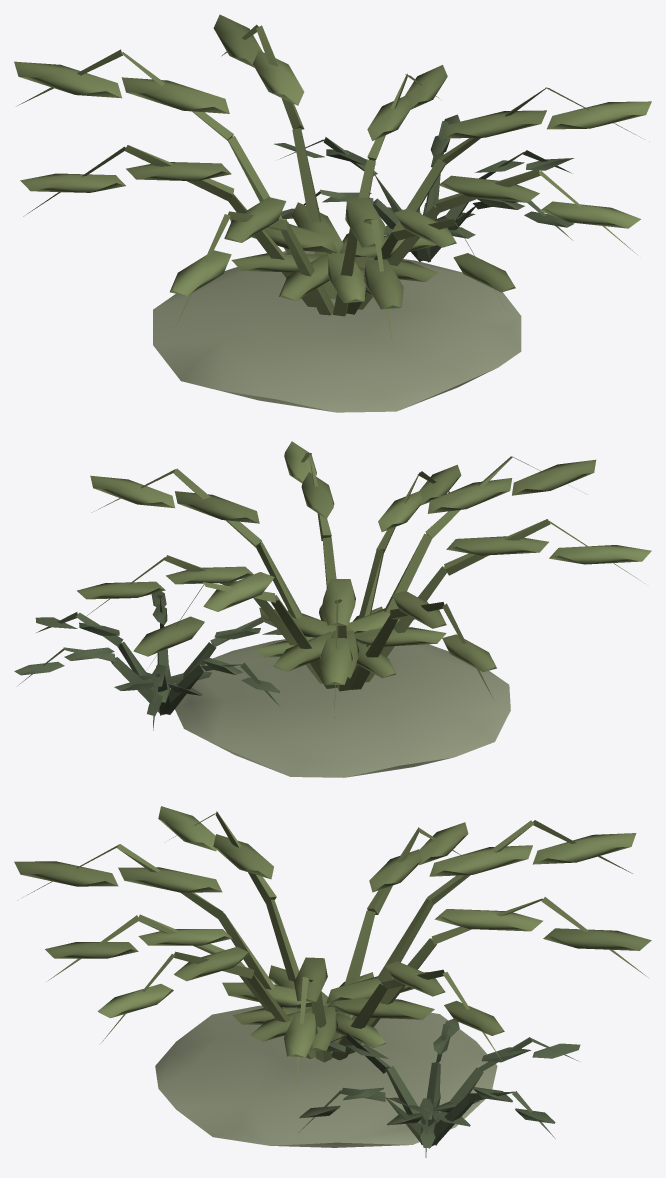
The model's file is cave_fern_a_lod2.glb.
The picture shows the model from 3 angles, top to bottom: view 1: azimuth 30°, elevation 25°; view 2: azimuth 150°, elevation 25°; view 3: azimuth 270°, elevation 25°; orthographic projection. The views are drawn at different scales.
Visible parts, largest first — view 1: Surface.001; view 2: Surface.001; view 3: Surface.001.
Part boxes in pixels (x1,y1,x2,y2): Surface.001: [14, 14, 651, 412]; Surface.001: [14, 441, 651, 777]; Surface.001: [14, 806, 651, 1157].
Bounding box in the file's own units: 2.3 × 1 × 2.48.
